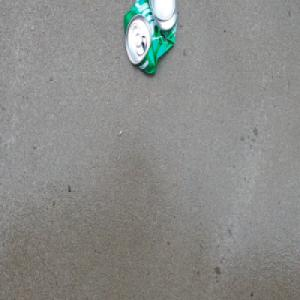SodaCan: (123, 0, 178, 76)
